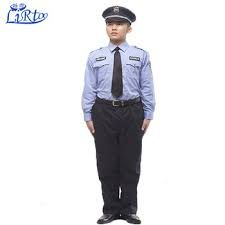uniform: (84, 34, 147, 202)
